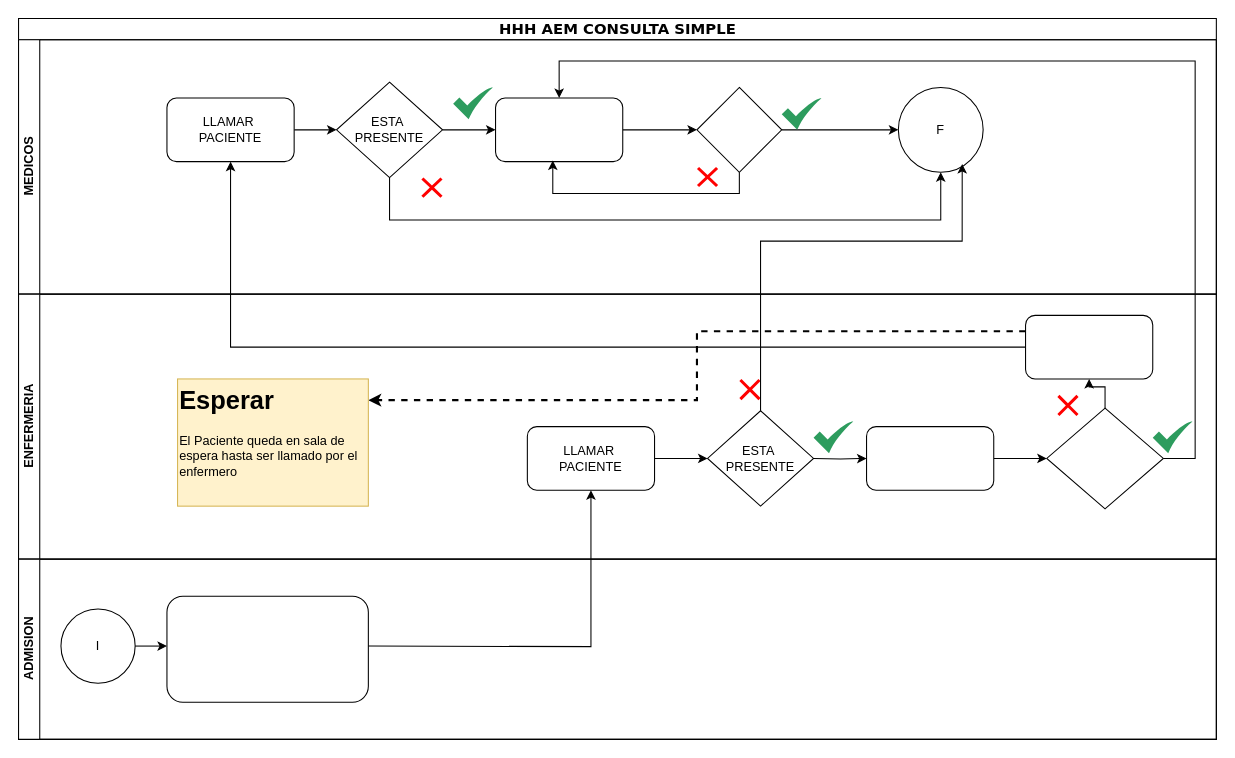
Image size: 1235x758. Some labels were removed from this diagram. Each missing label, with the centre of its shape:
"ATENDER PACIENTE" belongs at pixel 558 129.
"ESPERAR ATENCION MEDICA" belongs at pixel 1088 346.
"FINALIZA ATENCION" belongs at pixel 739 129.
"REALIZAR TRIAJE" belongs at pixel 929 458.
"RECEPCIONAR PACIENTES ANOTAR MOTIVO DE CONSULTA REFERIDO POR EL PACIENTE" belongs at pixel 267 648.
"Shocroom o boxes" belongs at pixel 1104 458.
